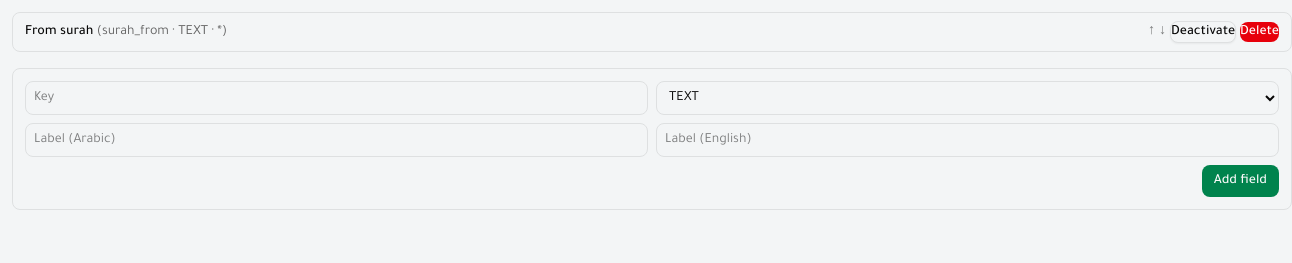
it: ReportFieldsEditor (Sprint 3 §4.2) › surfaces the deactivate-only message when delete is blocked
The width and height of the screenshot is (1292, 263).
Check: the text "From surah" is shown, box [25,25,93,39]
Step 1. Click the button "Delete" → click(1260, 32), box [1240,22,1279,42]
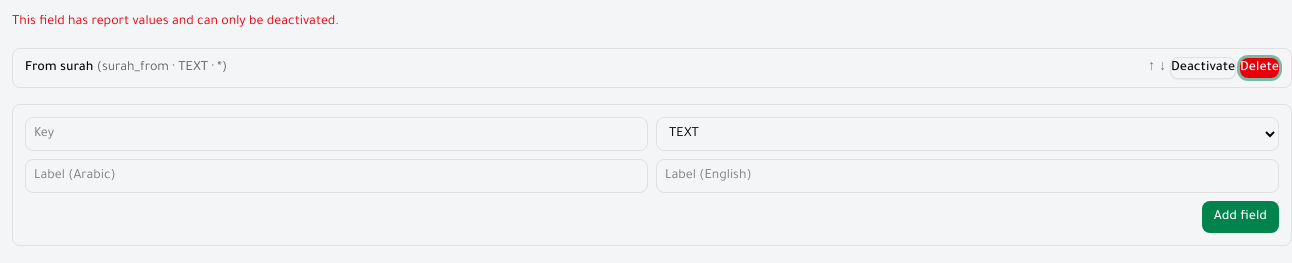
Check: the message reads "This field has report values and can only be deactivated.", box [12,15,339,29]
